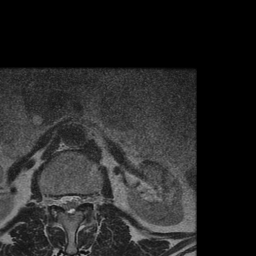CCS_normal: (66, 188, 73, 217)
LFS_normal: (80, 188, 87, 210)
LLS_normal: (73, 189, 80, 211)
RFS_normal: (51, 189, 59, 212)
RLS_normal: (59, 191, 66, 213)
